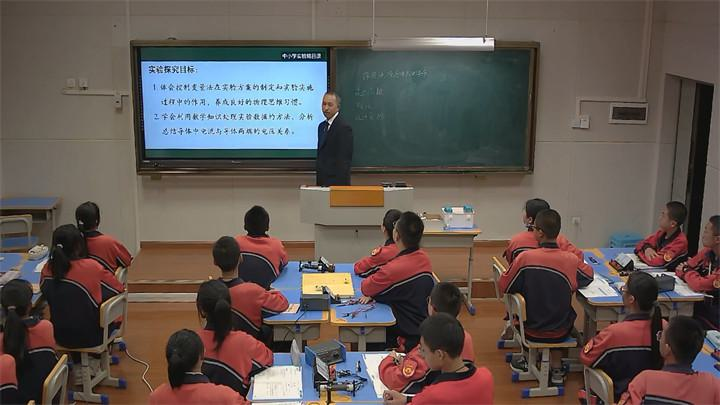bow: (415, 316, 476, 388)
listen: (656, 312, 706, 390), (198, 277, 239, 351), (165, 327, 207, 399), (1, 280, 40, 354), (617, 271, 655, 336), (49, 223, 84, 293), (395, 212, 430, 277), (239, 201, 277, 260), (533, 208, 564, 278), (695, 210, 720, 295), (76, 197, 115, 251), (367, 202, 397, 271), (653, 196, 684, 256), (427, 282, 466, 319)
